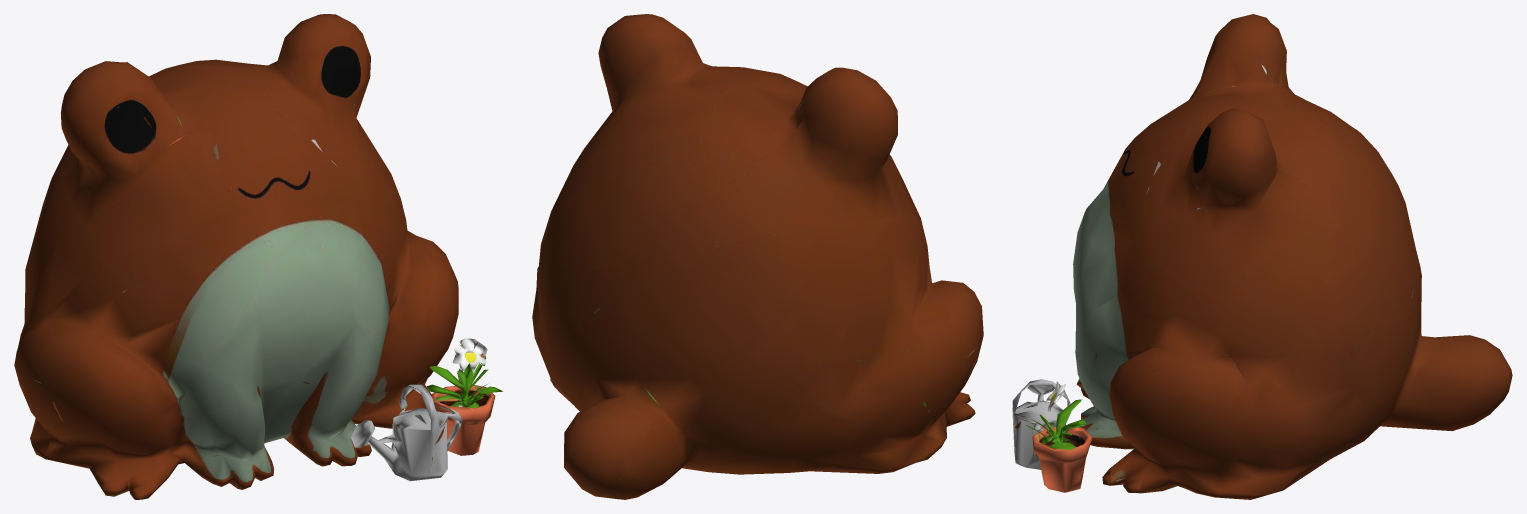
Rendered from jardinier.glb.
The picture shows the model from 3 angles, left to right: view 1: azimuth 30°, elevation 25°; view 2: azimuth 150°, elevation 25°; view 3: azimuth 270°, elevation 25°; orthographic projection. The views are drawn at different scales.
Parts seen in each view (by area): view 1: mesh_node; view 2: mesh_node; view 3: mesh_node.
Part boxes in pixels (<box>): mesh_node: <box>14,14,502,499</box>; mesh_node: <box>532,14,983,499</box>; mesh_node: <box>1012,14,1512,499</box>.
Size of the model in its own units: 1.69 by 1.47 by 1.9.
1 material, 1 textured.
